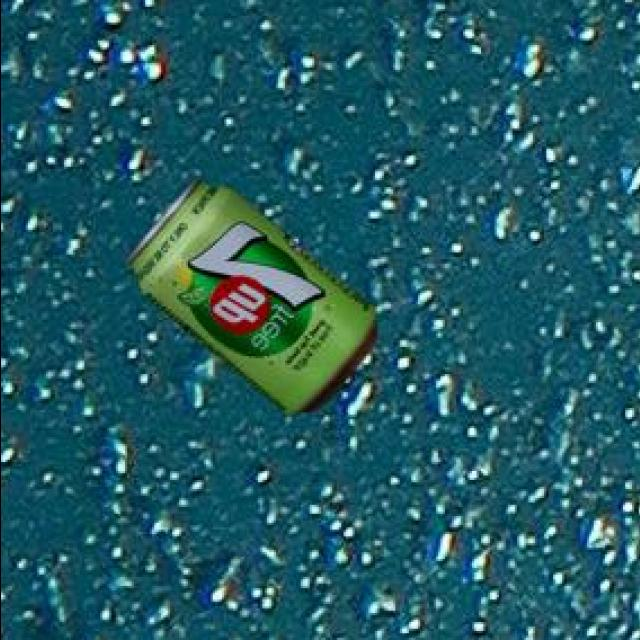logam: (130, 181, 380, 418)
